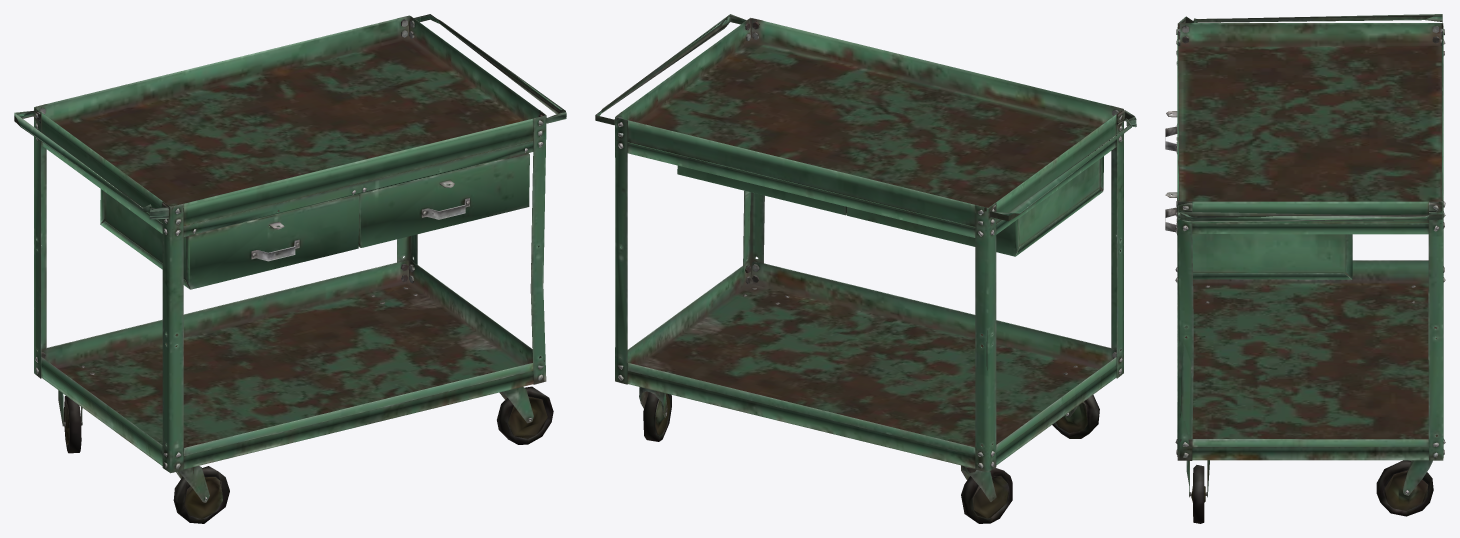
File: tool_cart.gltf
3 views of the same model, side by side, from view 1: azimuth 30°, elevation 25°; view 2: azimuth 150°, elevation 25°; view 3: azimuth 270°, elevation 25° (orthographic). The views are drawn at different scales.
Visible parts, largest first — view 1: tool_cart; view 2: tool_cart; view 3: tool_cart.
Boxes of the visible parts, x1=… form: tool_cart: x1=14, y1=14, x2=566, y2=523; tool_cart: x1=595, y1=14, x2=1136, y2=523; tool_cart: x1=1165, y1=14, x2=1445, y2=523.
Bounding box in the file's own units: 1.27 × 0.9619 × 0.7521.
1 material, 1 textured.
